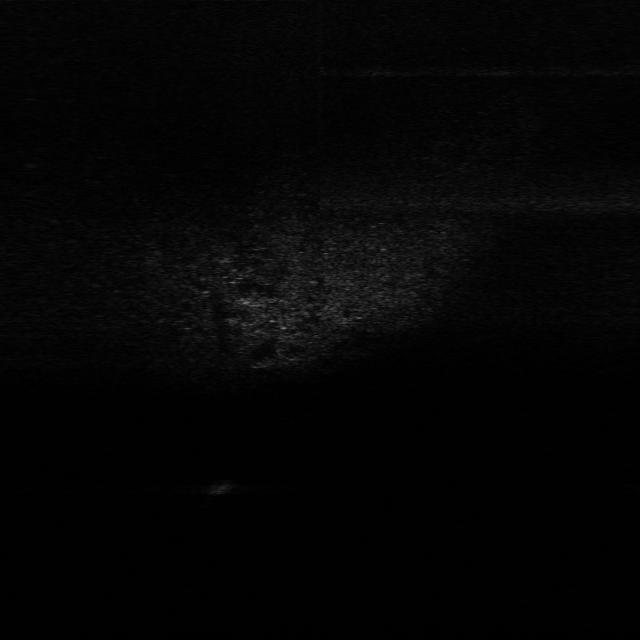cylinder: (206, 477, 242, 498)
